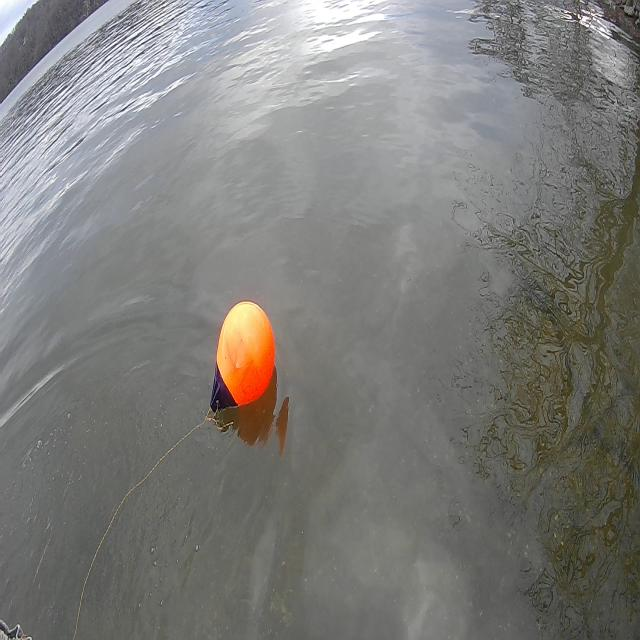Buoy: (207, 295, 278, 422)
